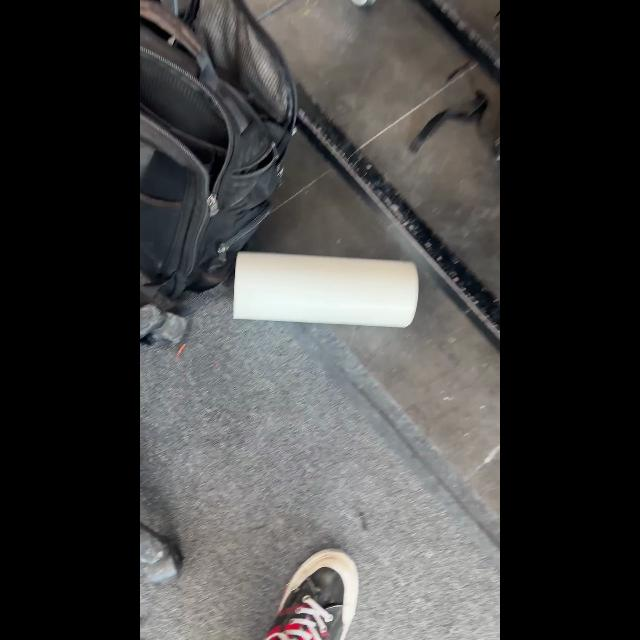CORAL: (232, 250, 418, 328)
